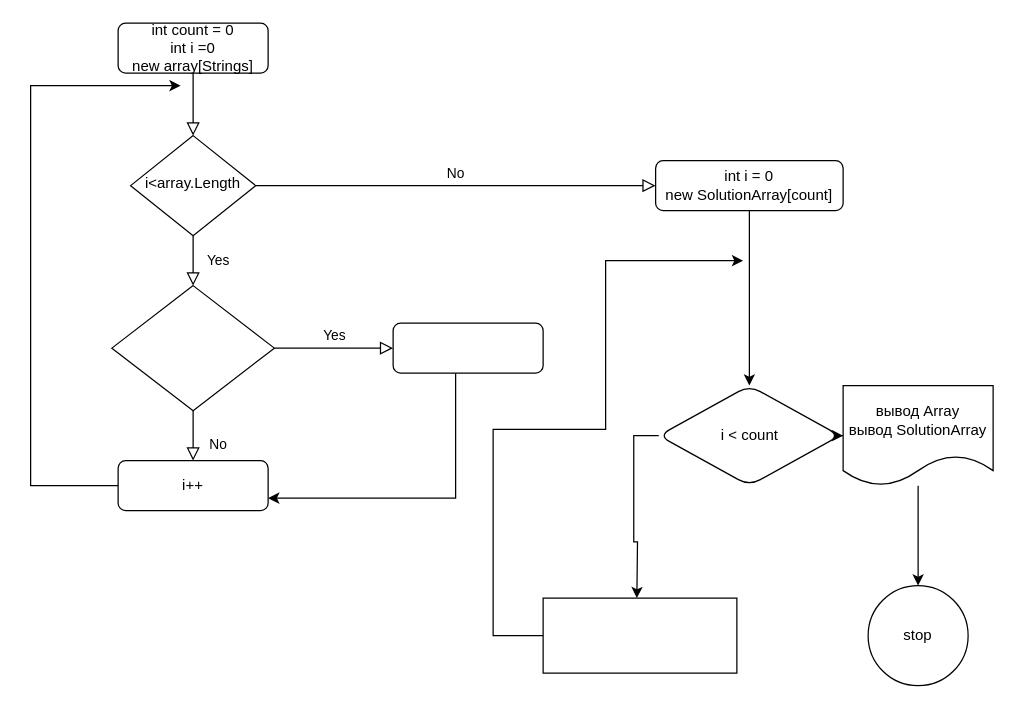
The diagram is 1015 pixels wide and 708 high, and some of its shapes have lost their labels. The shapes that lost their labels are listed below. From the top down, each one's centre as x and y in pixels, then its label:
At (x=192, y=347): "array[i].Length <=3".
At (x=467, y=347): "Array[count]=array[i] count ++".
At (x=639, y=635): "SolutionArray=newArray[i] i++".
